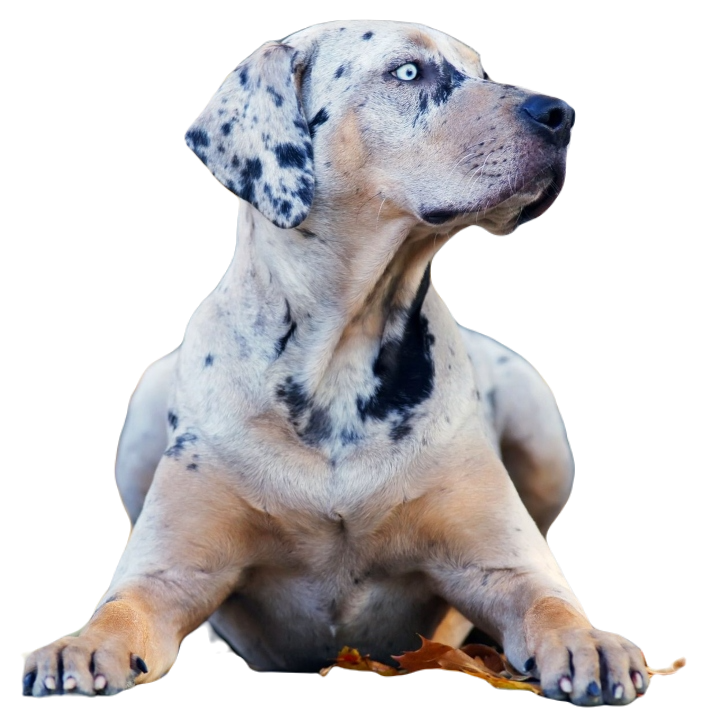Dog: (18, 19, 654, 711)
